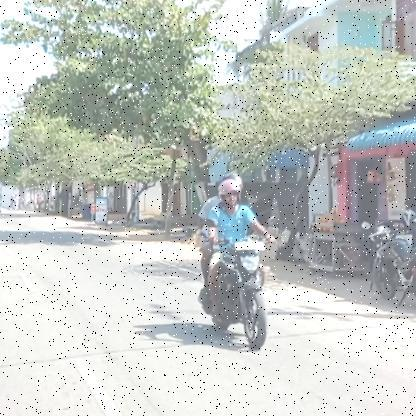motorcycle: (196, 239, 280, 354)
